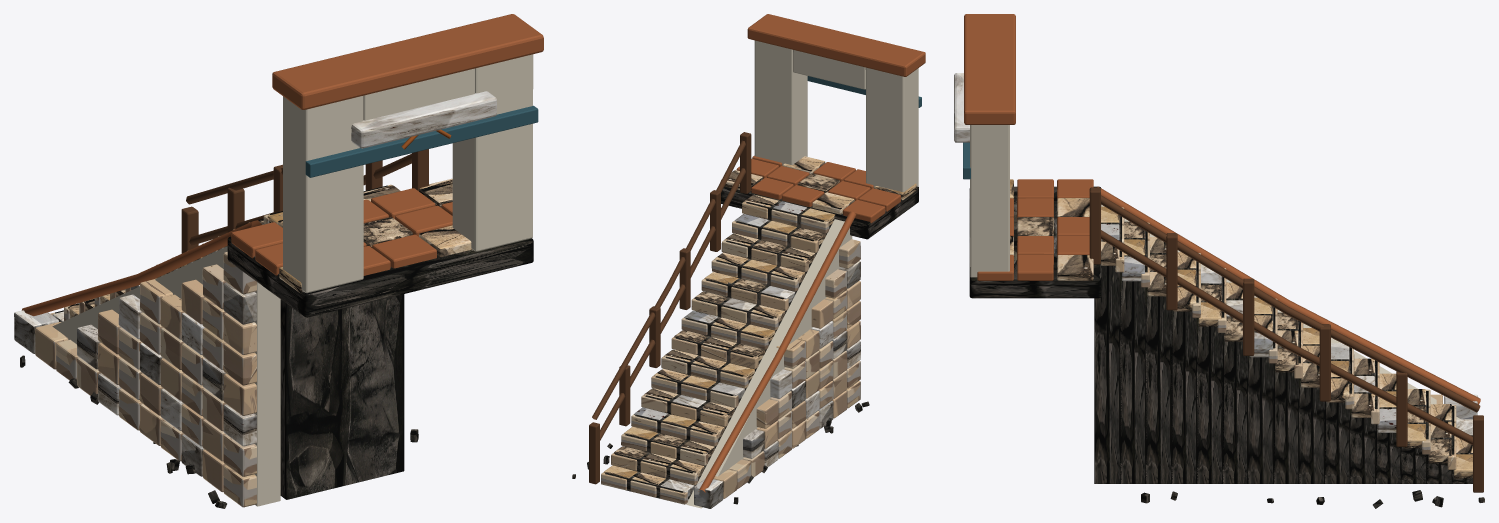
Rendered from rooftop_stair_access_LOD0.glb.
3 renders of one model, left to right at view 1: azimuth 30°, elevation 25°; view 2: azimuth 150°, elevation 25°; view 3: azimuth 270°, elevation 25°, orthographic. The views are drawn at different scales.
Visible parts, largest first — view 1: UrbanStairCore.014, RooftopExitPier, RooftopExitCoping, RooftopExitPier.001, RooftopLanding, UrbanStairCheek, RooftopExitBlueBand, RooftopExitMarbleLintel, RooftopExitLintel, UrbanCheekCoping, RooftopLandingPaver.002, RooftopLandingPaver.010 (+55 smaller); view 2: RooftopExitPier, RooftopExitPier.001, RooftopExitCoping, UrbanStairCheek, UrbanCheekCoping, UrbanStairRail.001, RooftopExitLintel, RooftopLanding, UrbanStairRail, StairCheekAshlar, UrbanStairRailPost, UrbanStairRailPost.005 (+23 smaller); view 3: RooftopExitPier.001, UrbanStairCore.014, RooftopExitCoping, UrbanStairCore.013, UrbanStairCore.012, UrbanStairCore.011, UrbanStairCore.010, UrbanStairCore.008, UrbanStairCore.009, UrbanStairRail.001, RooftopLanding, UrbanStairRail (+25 smaller).
Part boxes in pixels (x1=…): UrbanStairCore.014: x1=270, y1=185, x2=404, y2=499; RooftopExitPier: x1=283, y1=96, x2=363, y2=293; RooftopExitCoping: x1=272, y1=14, x2=543, y2=109; RooftopExitPier.001: x1=452, y1=54, x2=533, y2=251; RooftopLanding: x1=227, y1=236, x2=533, y2=317; UrbanStairCheek: x1=52, y1=246, x2=280, y2=506; RooftopExitBlueBand: x1=305, y1=105, x2=538, y2=177; RooftopExitMarbleLintel: x1=351, y1=91, x2=496, y2=148; RooftopExitLintel: x1=363, y1=68, x2=474, y2=120; UrbanCheekCoping: x1=22, y1=220, x2=261, y2=316; RooftopLandingPaver.002: x1=372, y1=234, x2=436, y2=268; RooftopLandingPaver.010: x1=231, y1=222, x2=282, y2=258; RooftopExitPier: x1=865, y1=67, x2=918, y2=192; RooftopExitPier.001: x1=754, y1=40, x2=807, y2=165; RooftopExitCoping: x1=747, y1=14, x2=925, y2=76; UrbanStairCheek: x1=686, y1=219, x2=852, y2=508; UrbanCheekCoping: x1=698, y1=211, x2=856, y2=492; UrbanStairRail.001: x1=592, y1=140, x2=745, y2=419; RooftopExitLintel: x1=793, y1=50, x2=865, y2=89; RooftopLanding: x1=721, y1=186, x2=918, y2=239; UrbanStairRail: x1=600, y1=168, x2=745, y2=440; StairCheekAshlar: x1=694, y1=479, x2=723, y2=508; UrbanStairRailPost: x1=589, y1=422, x2=599, y2=484; UrbanStairRailPost.005: x1=740, y1=132, x2=751, y2=193; RooftopExitPier.001: x1=970, y1=125, x2=1009, y2=277; UrbanStairCore.014: x1=1094, y1=216, x2=1121, y2=483; RooftopExitCoping: x1=964, y1=14, x2=1015, y2=124; UrbanStairCore.013: x1=1120, y1=231, x2=1147, y2=483; UrbanStairCore.012: x1=1145, y1=253, x2=1172, y2=483; UrbanStairCore.011: x1=1171, y1=261, x2=1198, y2=483; UrbanStairCore.010: x1=1197, y1=276, x2=1224, y2=483; UrbanStairCore.008: x1=1248, y1=307, x2=1275, y2=483; UrbanStairCore.009: x1=1222, y1=298, x2=1248, y2=483; UrbanStairRail.001: x1=1101, y1=195, x2=1480, y2=412; RooftopLanding: x1=969, y1=186, x2=1101, y2=298; UrbanStairRail: x1=1101, y1=230, x2=1472, y2=445.
Size of the model in its own units: 2.92 by 5.55 by 6.65.
Materials: 9 (4 with a texture image).
